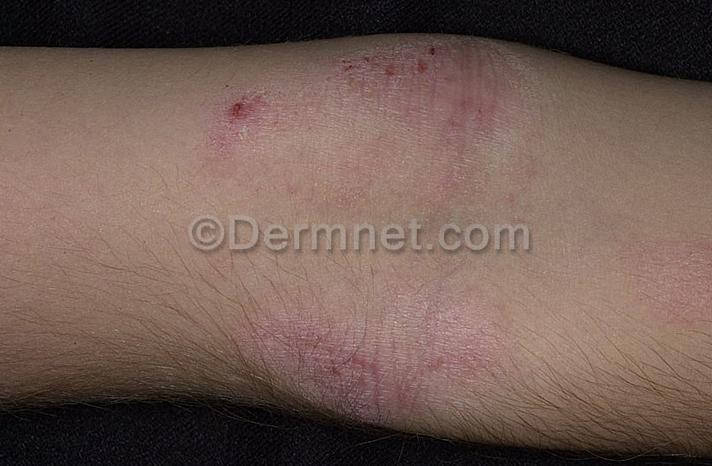eritema 1: (205, 29, 534, 466)
excoriacion 2: (202, 28, 544, 466)
xerosis 2: (202, 29, 542, 466)
